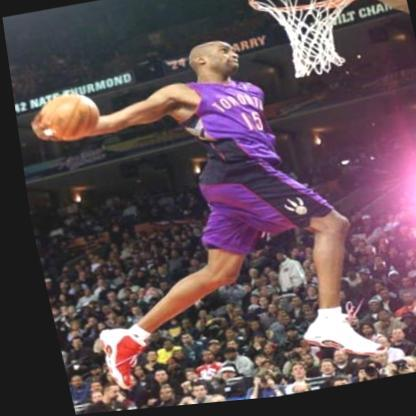basketball: (34, 90, 102, 146)
rim: (244, 0, 374, 90)
